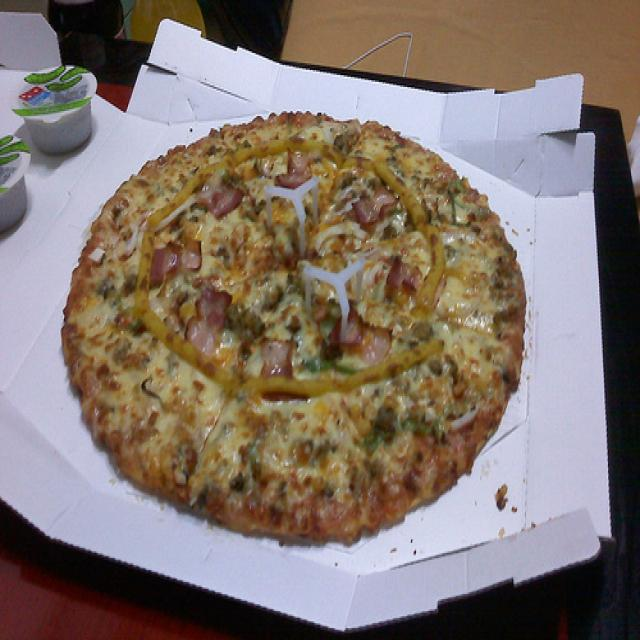Wet Waste: (56, 104, 538, 556)
